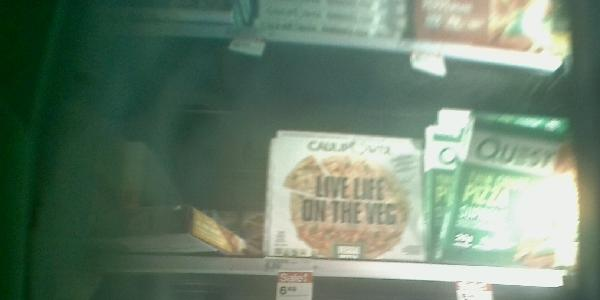pizza: (264, 124, 428, 265), (438, 110, 578, 269)
pizza1: (26, 212, 223, 253)
